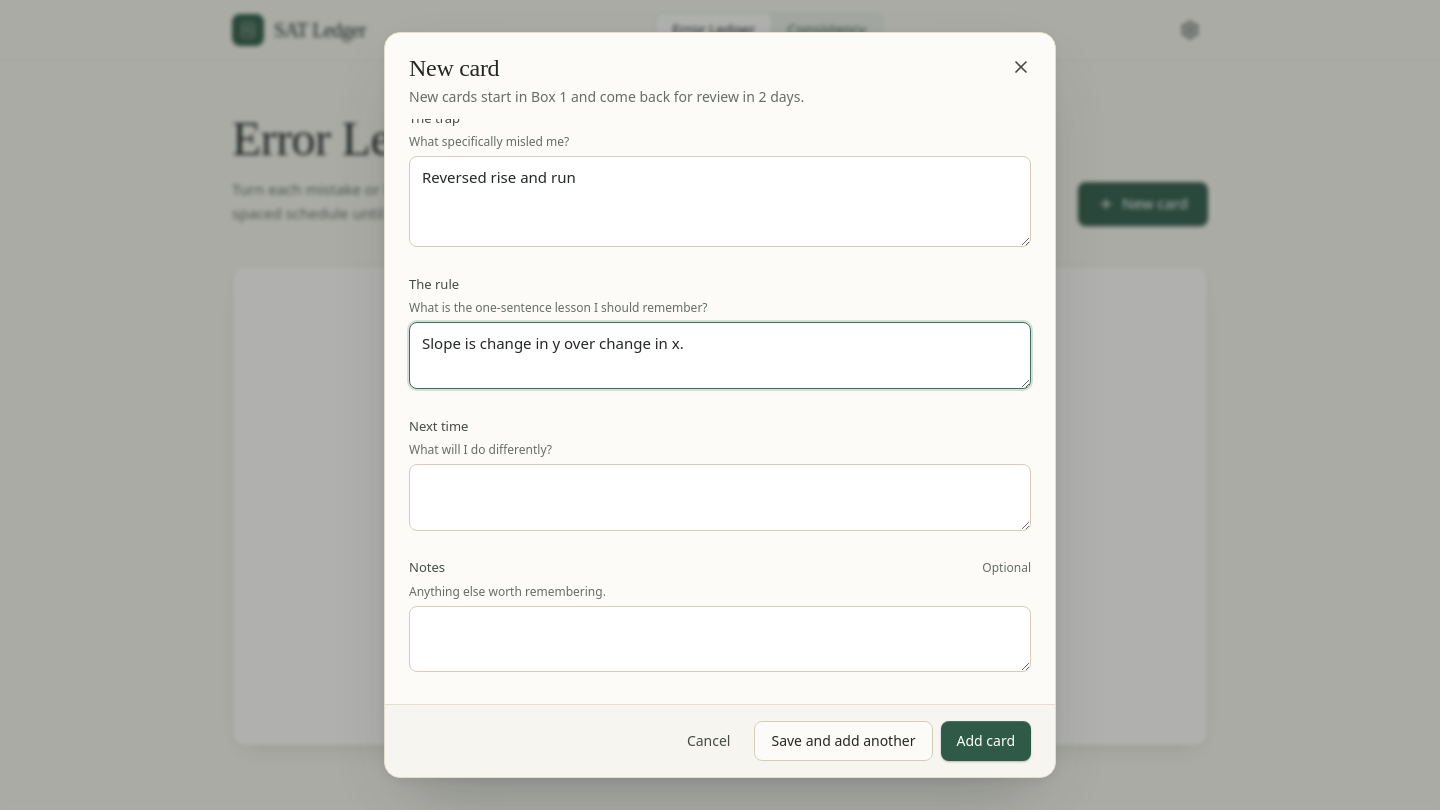
Scenario: Error Ledger: creating cards › creates a card in Box 1 that is first due two days later
This screenshot has width=1440, height=810.
Earlier steps of the test are not shown.
(page scrolled)
Type "Label both points first." into the text box labelled "Next time" at (720, 497), box x1=409 y1=464 x2=1031 y2=531
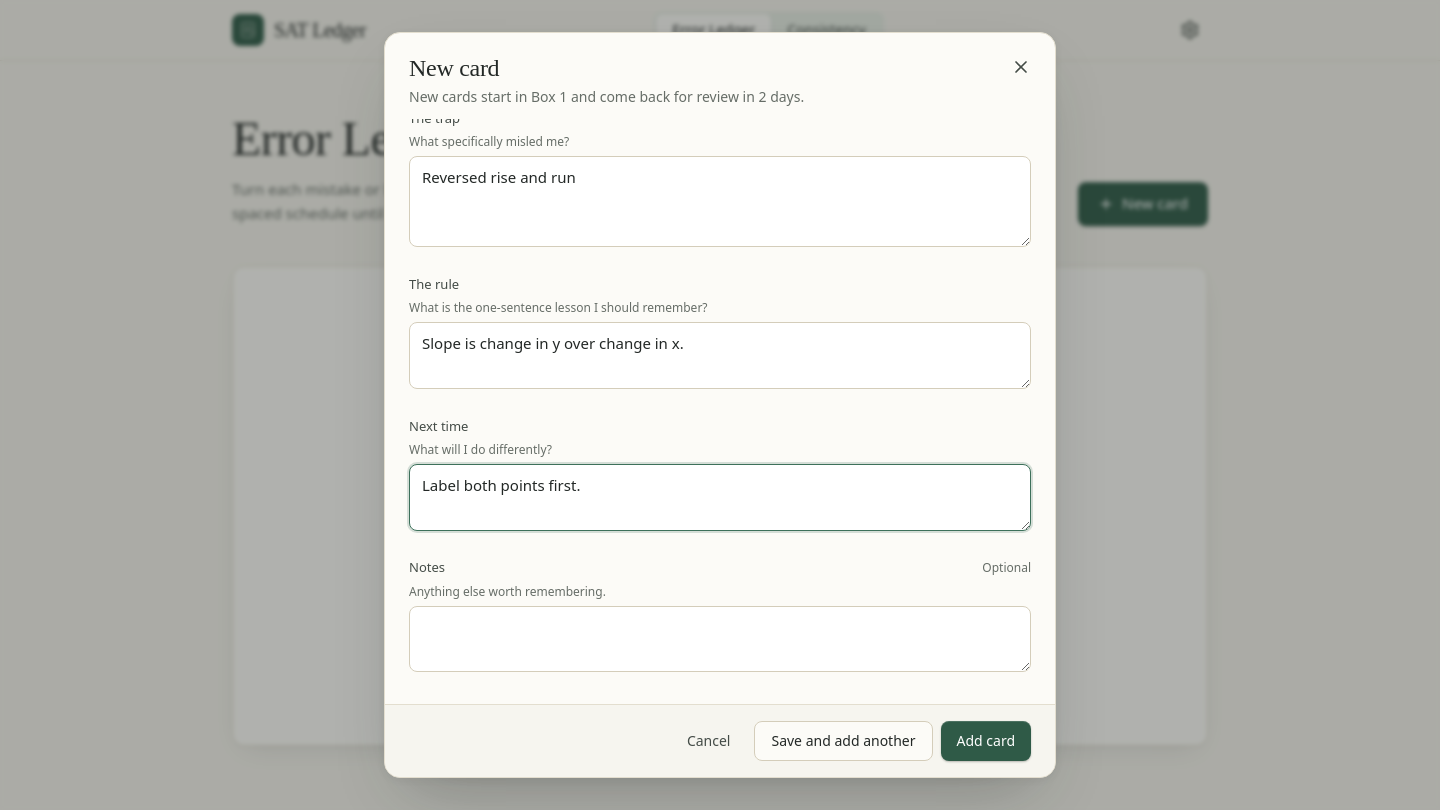
Click the button "Add card" at (986, 741), box x1=940 y1=721 x2=1031 y2=761
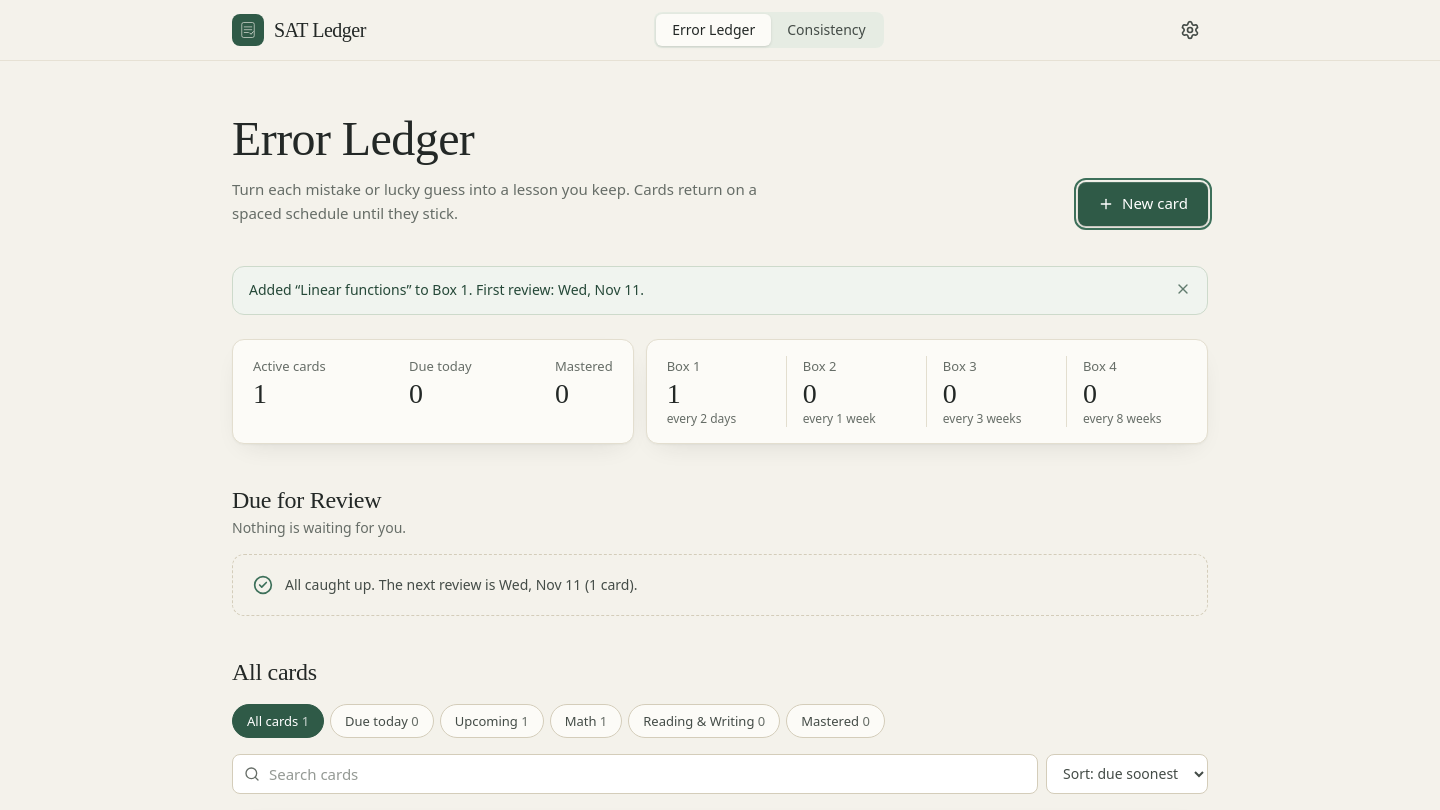
expect the text "Added “Linear functions” to Box 1" is shown: met, box x1=249 y1=279 x2=644 y2=302
